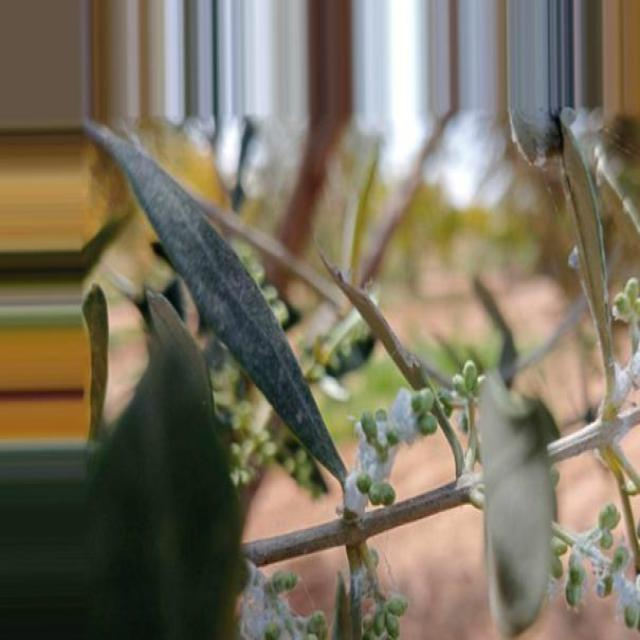Psyllid: (337, 388, 437, 519), (564, 502, 639, 639), (240, 561, 327, 639), (349, 543, 407, 639)
